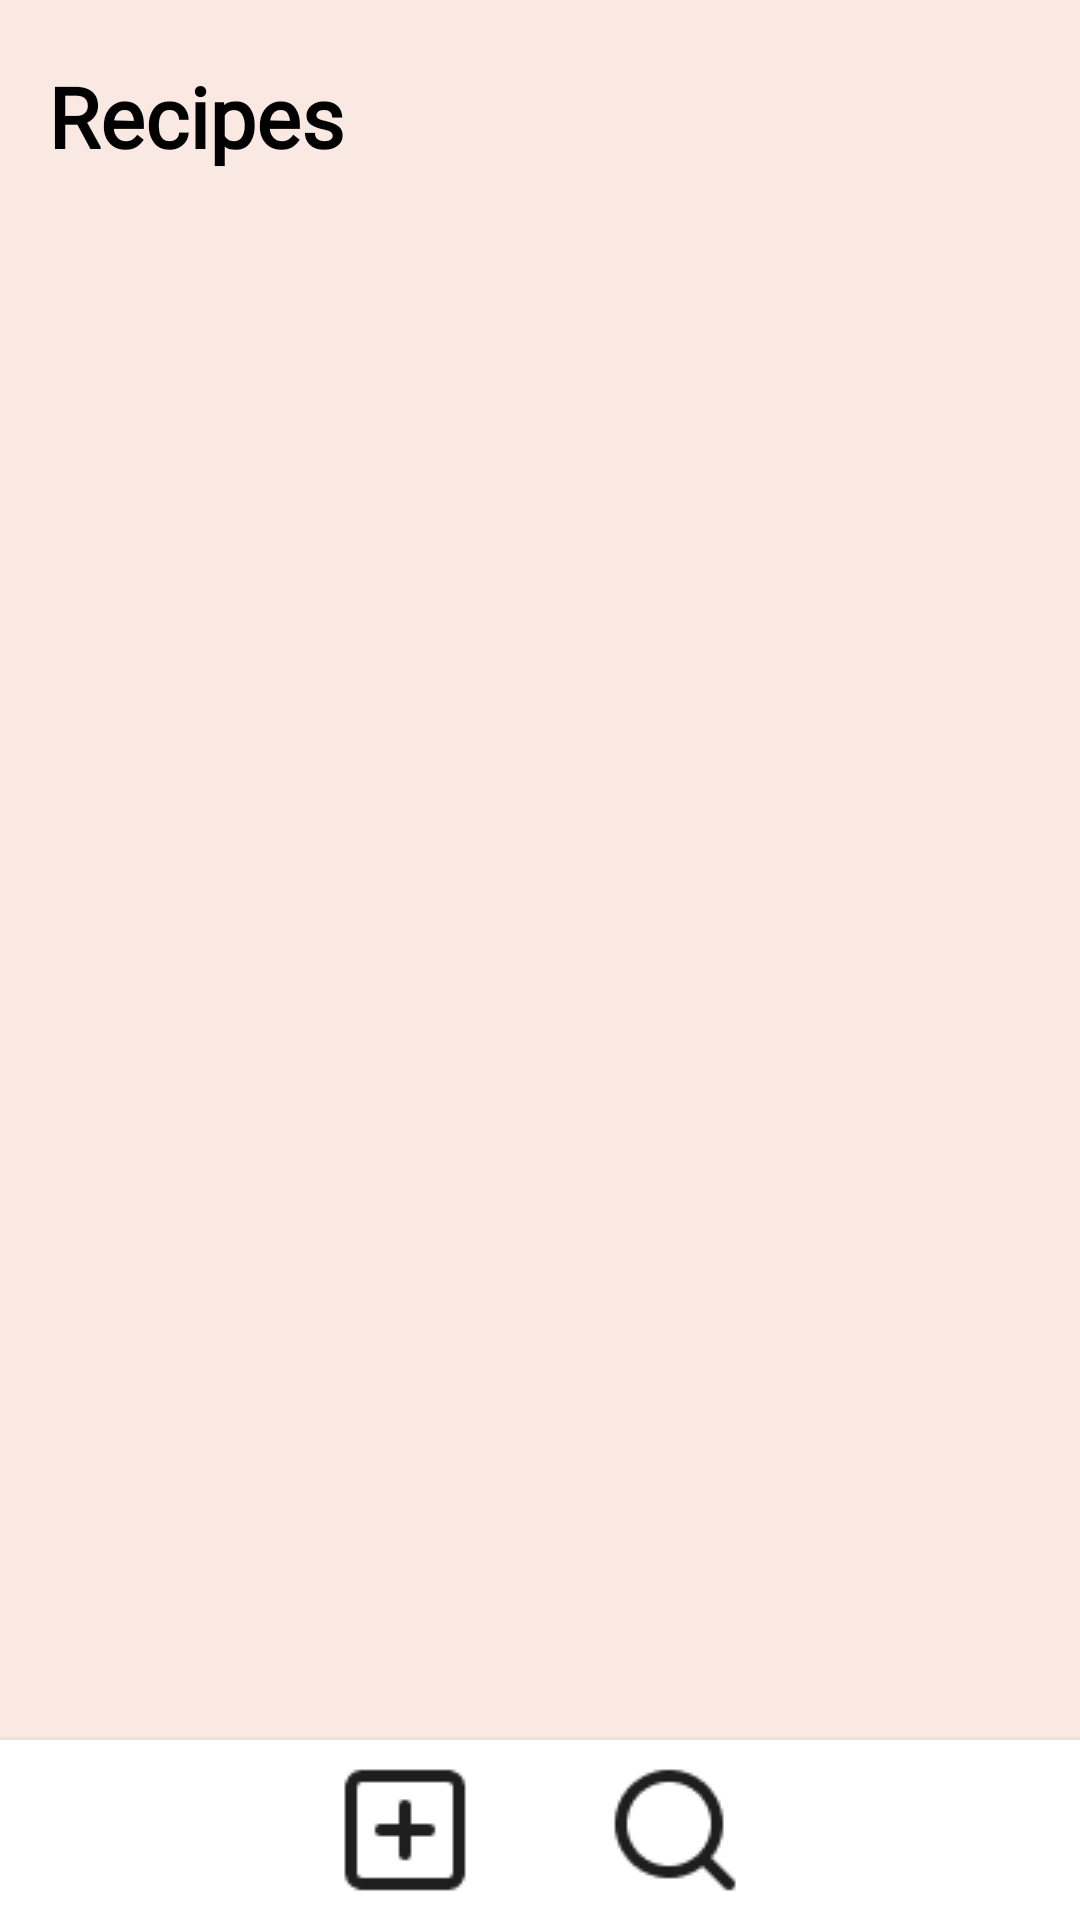

Icon click points for this 1080 x 1920 phone screenshot, format [x,y]:
Add Post: [405,1830]
Search: [675,1830]
